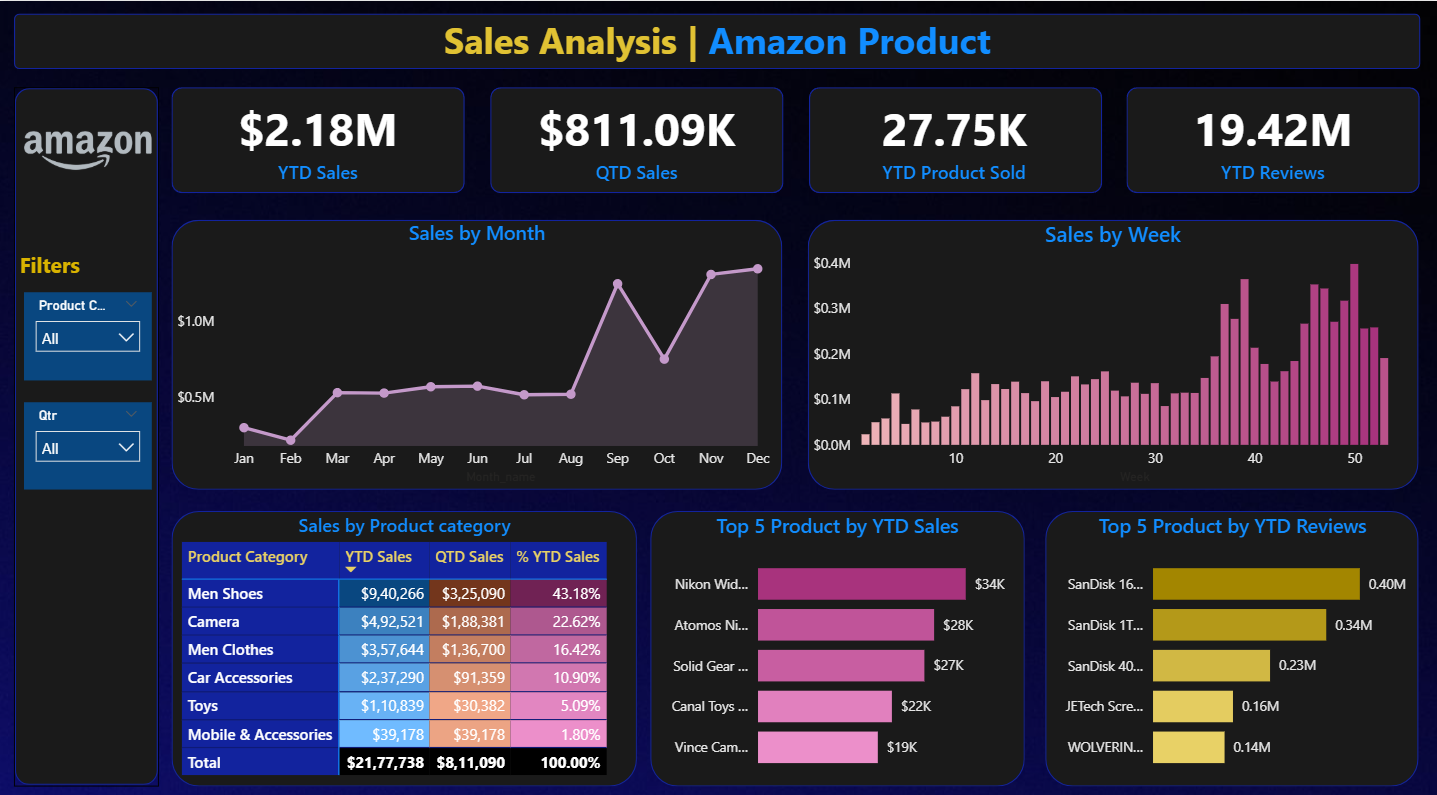

Layout of this report page (visuals, bound fields, positions):
{"tool":"powerbi","page":{"name":"Page 1","canvas":[1280,720],"ordinal":0},"visuals":[{"type":"shape","box":[13.7,11,1250.1,49.4],"z":0},{"type":"shape","box":[153.2,77.2,260.6,94.1],"z":0,"group":"g1"},{"type":"textbox","box":[304.6,8.2,668.3,53.5],"z":1000},{"type":"card","fields":{"Values":["Amazon_Data.YTD Sales"]},"box":[153.2,77.2,260.6,94.1],"z":1000,"group":"g1"},{"type":"shape","box":[13.3,77.2,129.1,621.3],"z":2000},{"type":"shape","box":[436.3,77.2,260.6,94.1],"z":2000,"group":"g1"},{"type":"group","id":"g1","title":"Group 1","box":[153.2,77.2,1109.9,94.1],"z":3000},{"type":"shape","box":[719.4,77.2,260.6,94.1],"z":3000,"group":"g1"},{"type":"shape","box":[1002.5,77.2,260.6,94.1],"z":4000,"group":"g1"},{"type":"shape","box":[153.2,194.2,542.9,240.1],"z":4000},{"type":"card","fields":{"Values":["Amazon_Data.QTD Sales"]},"box":[436.7,77.2,260.6,94.1],"z":5000,"group":"g1"},{"type":"stackedAreaChart","title":"Sales by Month","fields":{"Category":["Date_table.Month_name"],"Y":["Sum(Amazon_Data.Price(Dollar))"]},"box":[153.2,194.2,542.9,240.1],"z":5000},{"type":"card","fields":{"Values":["Amazon_Data.YTD Product Sold"]},"box":[719,77.2,260.6,94.1],"z":6000,"group":"g1"},{"type":"shape","box":[719,194.2,542.9,240.1],"z":6000},{"type":"card","fields":{"Values":["Amazon_Data.YTD Reviews"]},"box":[1002.5,77.2,260.6,94.1],"z":7000,"group":"g1"},{"type":"columnChart","title":"Sales by Week","fields":{"Category":["Date_table.Week"],"Y":["Sum(Amazon_Data.Price(Dollar))"]},"box":[719,194.2,542.9,240.1],"z":7000},{"type":"shape","box":[153.2,453.6,413.8,244.9],"z":8000},{"type":"pivotTable","title":"Sales by Product category","fields":{"Rows":["Amazon_Data.Product Category"],"Values":["Amazon_Data.YTD Sales1","Amazon_Data.QTD Sales","Amazon_Data.YTD Sales"]},"box":[158,454.8,405.4,243.7],"z":9000},{"type":"shape","box":[579.1,453.6,333,244.9],"z":10000},{"type":"shape","box":[930.2,453.6,331.8,244.9],"z":11000},{"type":"clusteredBarChart","title":"Top 5 Product by YTD Sales","fields":{"Category":["Amazon_Data.Product Description"],"Y":["Amazon_Data.YTD Sales"]},"box":[579.1,454.8,333,243.7],"z":12000},{"type":"clusteredBarChart","title":"Top 5 Product by YTD Reviews","fields":{"Category":["Amazon_Data.Product Description"],"Y":["Amazon_Data.YTD Reviews"]},"box":[930.2,454.8,333,243.7],"z":13000},{"type":"slicer","fields":{"Values":["Amazon_Data.Product Category"]},"box":[21.7,259.4,113.4,78.4],"z":14000},{"type":"slicer","fields":{"Values":["Date_table.Qtr"]},"box":[21.7,357.1,113.4,77.2],"z":15000},{"type":"image","box":[21.7,86.9,113.4,84.5],"z":16000},{"type":"textbox","box":[13.3,217.2,86.9,42.2],"z":17000}]}

Visuals, with their boxes in screenshot pixels (x1, y1, x2, y2), scaled from the page's 1280x720 canvas onto the 1437x795 screenshot:
shape: <region>15, 12, 1419, 67</region>
shape: <region>172, 85, 465, 189</region>
textbox: <region>342, 9, 1092, 68</region>
card - Amazon_Data.YTD Sales: <region>172, 85, 465, 189</region>
shape: <region>15, 85, 160, 771</region>
shape: <region>490, 85, 782, 189</region>
"Group 1" group: <region>172, 85, 1418, 189</region>
shape: <region>808, 85, 1100, 189</region>
shape: <region>1125, 85, 1418, 189</region>
shape: <region>172, 214, 781, 480</region>
card - Amazon_Data.QTD Sales: <region>490, 85, 783, 189</region>
"Sales by Month" stackedAreaChart: <region>172, 214, 781, 480</region>
card - Amazon_Data.YTD Product Sold: <region>807, 85, 1100, 189</region>
shape: <region>807, 214, 1417, 480</region>
card - Amazon_Data.YTD Reviews: <region>1125, 85, 1418, 189</region>
"Sales by Week" columnChart: <region>807, 214, 1417, 480</region>
shape: <region>172, 501, 637, 771</region>
"Sales by Product category" pivotTable: <region>177, 502, 633, 771</region>
shape: <region>650, 501, 1024, 771</region>
shape: <region>1044, 501, 1417, 771</region>
"Top 5 Product by YTD Sales" clusteredBarChart: <region>650, 502, 1024, 771</region>
"Top 5 Product by YTD Reviews" clusteredBarChart: <region>1044, 502, 1418, 771</region>
slicer - Amazon_Data.Product Category: <region>24, 286, 152, 373</region>
slicer - Date_table.Qtr: <region>24, 394, 152, 480</region>
image: <region>24, 96, 152, 189</region>
textbox: <region>15, 240, 112, 286</region>
